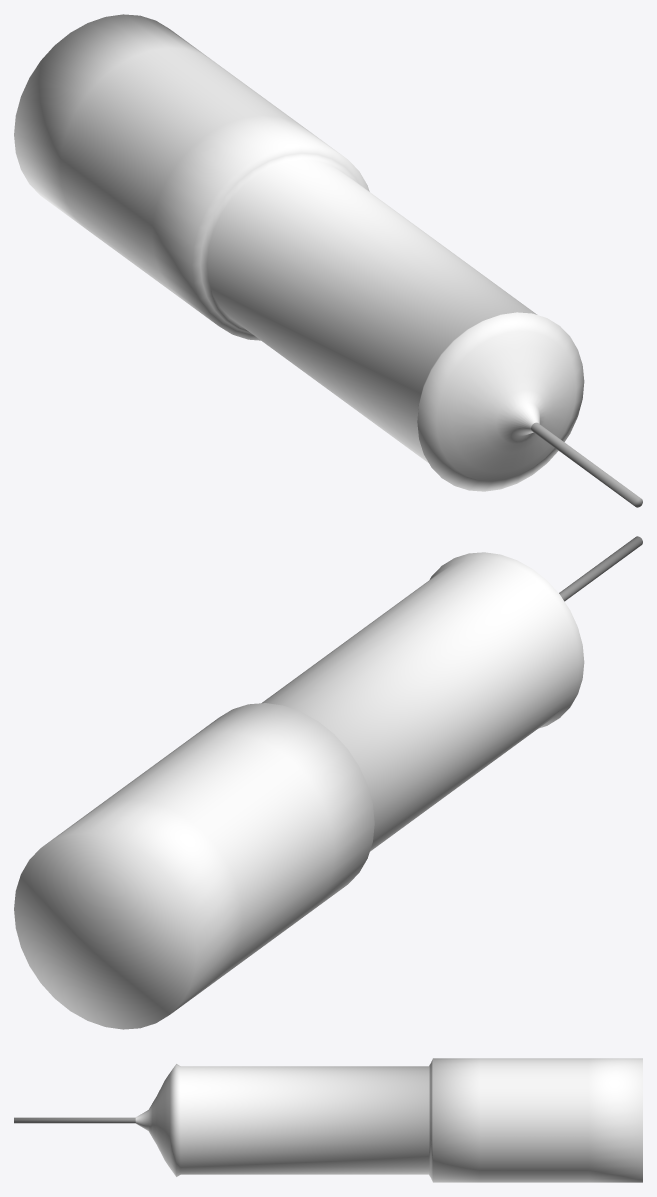
The model's file is Syringe.fbx.
The picture shows the model from 3 angles, top to bottom: view 1: azimuth 30°, elevation 25°; view 2: azimuth 150°, elevation 25°; view 3: azimuth 270°, elevation 25°; orthographic projection. The views are drawn at different scales.
Visible parts, largest first — view 1: Syringe; view 2: Syringe; view 3: Syringe.
Part boxes in pixels (box(x1,y1,x2,y2)): Syringe: box(14, 14, 642, 507); Syringe: box(14, 536, 642, 1029); Syringe: box(14, 1058, 642, 1182).
Bounding box in the file's own units: 3.34 × 3.34 × 16.87.
